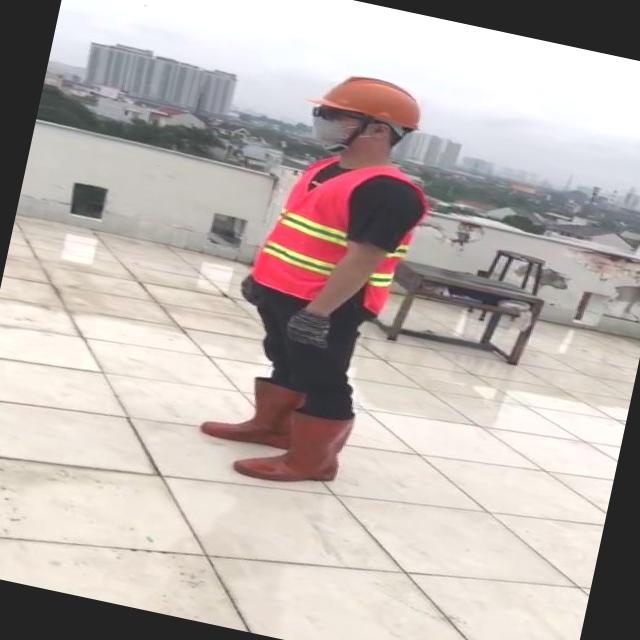boots: (228, 391, 358, 497), (198, 367, 300, 454)
helmet: (314, 65, 434, 131)
vest: (246, 142, 439, 318)
